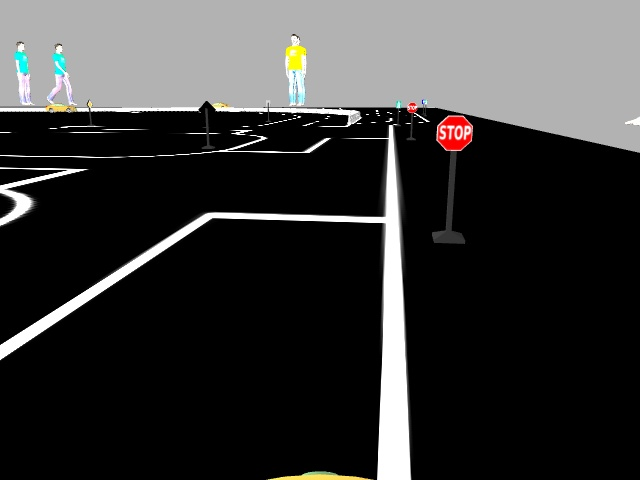Stop: (429, 112, 473, 154)
